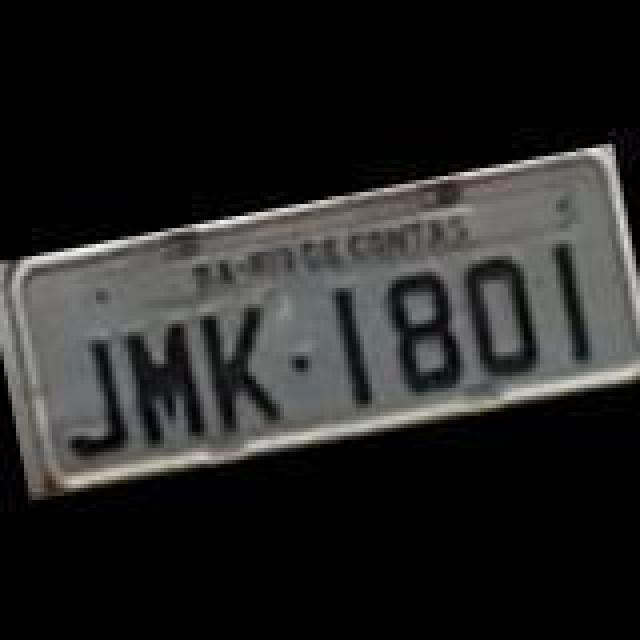1: (542, 242, 602, 366), (324, 282, 380, 406)
8: (380, 260, 468, 396)
J: (44, 330, 132, 462)
K: (192, 296, 288, 440)
M: (122, 318, 214, 450)
O: (462, 254, 546, 386)
